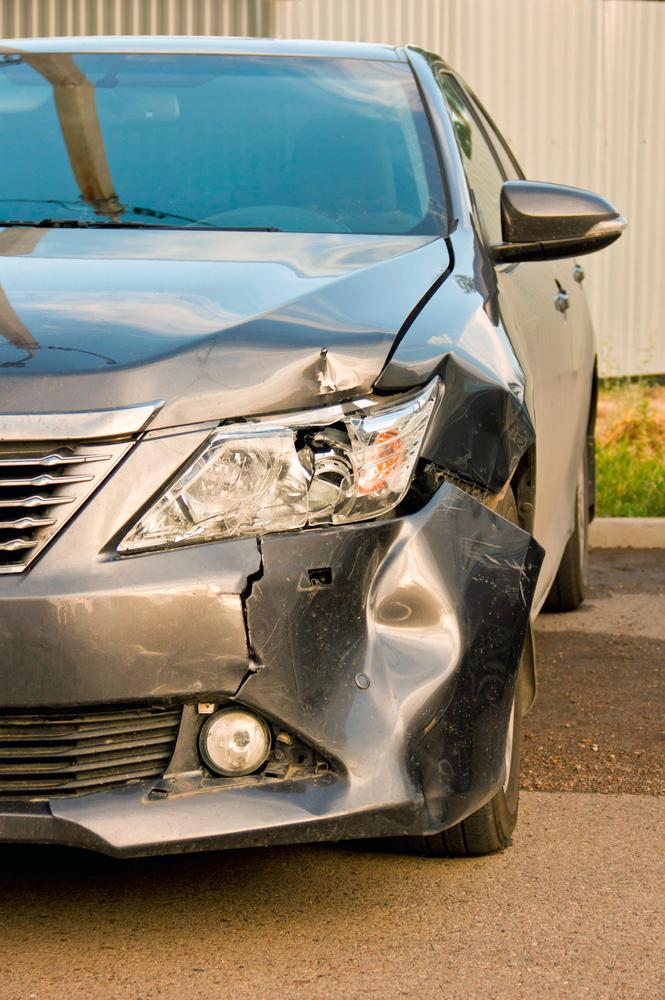crack: (237, 536, 268, 666)
dent: (287, 519, 462, 763), (426, 388, 534, 490), (274, 352, 377, 409)
lamp broken: (118, 369, 444, 554)
